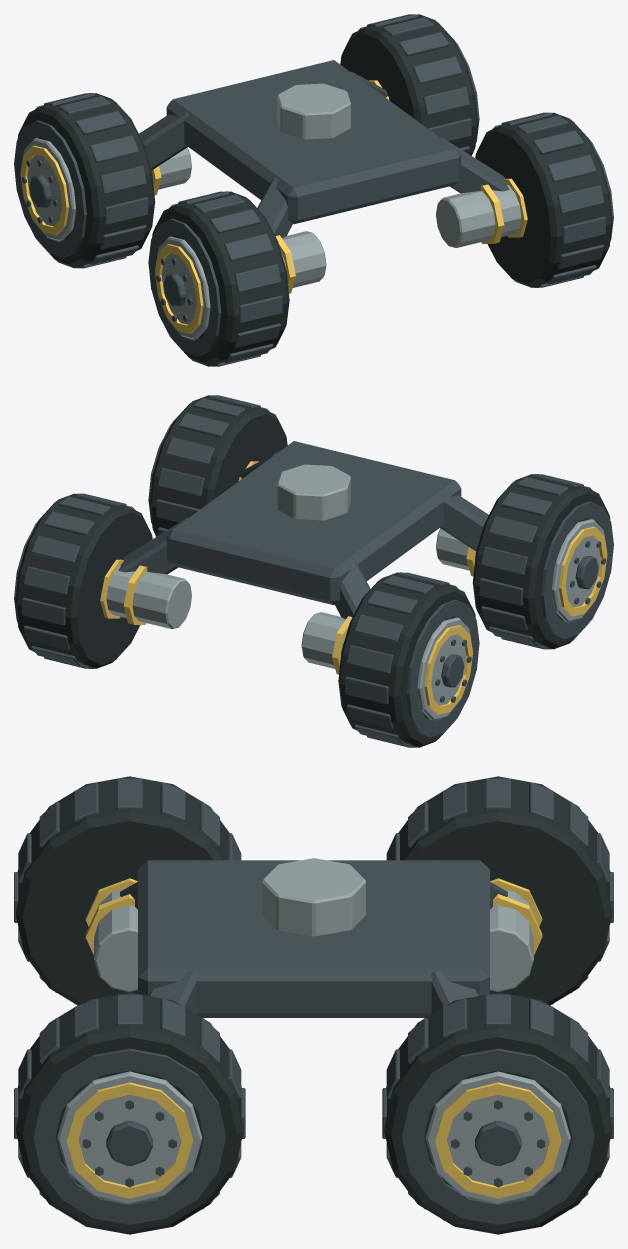
Rendered from mobility.glb.
3 renders of one model, top to bottom at view 1: azimuth 30°, elevation 25°; view 2: azimuth 150°, elevation 25°; view 3: azimuth 270°, elevation 25°, orthographic. The views are drawn at different scales.
Visible parts, largest first — view 1: Mobility_Module_Mesh, LeftFront_Wheel_Mesh, LeftRear_Wheel_Mesh, RightFront_Wheel_Mesh, RightRear_Wheel_Mesh; view 2: Mobility_Module_Mesh, LeftRear_Wheel_Mesh, LeftFront_Wheel_Mesh, RightRear_Wheel_Mesh, RightFront_Wheel_Mesh; view 3: Mobility_Module_Mesh, RightFront_Wheel_Mesh, RightRear_Wheel_Mesh, LeftFront_Wheel_Mesh, LeftRear_Wheel_Mesh.
Boxes of the visible parts, left/top/right/bottom form: Mobility_Module_Mesh: left=139, top=60, right=527, bottom=293; LeftFront_Wheel_Mesh: left=148, top=191, right=289, bottom=366; LeftRear_Wheel_Mesh: left=14, top=93, right=155, bottom=268; RightFront_Wheel_Mesh: left=475, top=112, right=613, bottom=287; RightRear_Wheel_Mesh: left=340, top=14, right=479, bottom=155; Mobility_Module_Mesh: left=100, top=441, right=488, bottom=674; LeftRear_Wheel_Mesh: left=338, top=572, right=479, bottom=747; LeftFront_Wheel_Mesh: left=472, top=474, right=613, bottom=649; RightRear_Wheel_Mesh: left=14, top=493, right=152, bottom=668; RightFront_Wheel_Mesh: left=148, top=395, right=287, bottom=536; Mobility_Module_Mesh: left=85, top=858, right=542, bottom=1017; RightFront_Wheel_Mesh: left=14, top=992, right=245, bottom=1234; RightRear_Wheel_Mesh: left=382, top=992, right=613, bottom=1234; LeftFront_Wheel_Mesh: left=14, top=776, right=241, bottom=1005; LeftRear_Wheel_Mesh: left=386, top=776, right=613, bottom=1005.
Size of the model in its own units: 1.21 by 0.4635 by 1.09.
